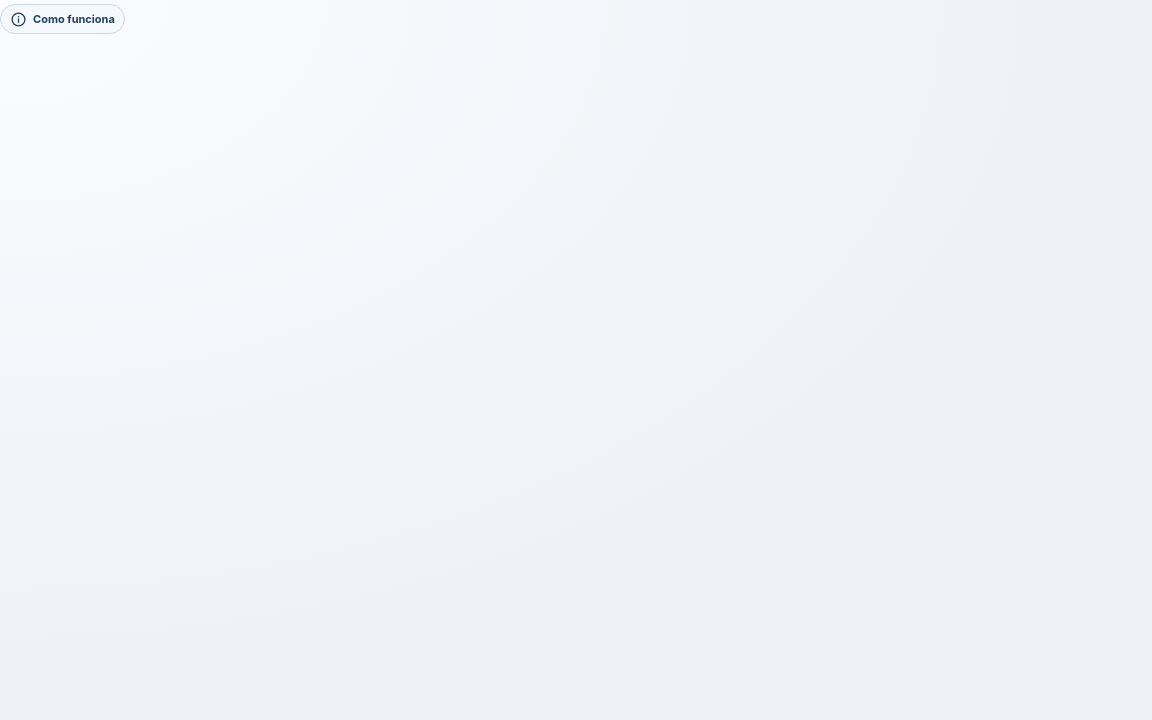
it: ElectionInfo › shows localized information in pt-BR
Click the button "Como funciona" at (62, 19), box left=0, top=4, right=125, bottom=34
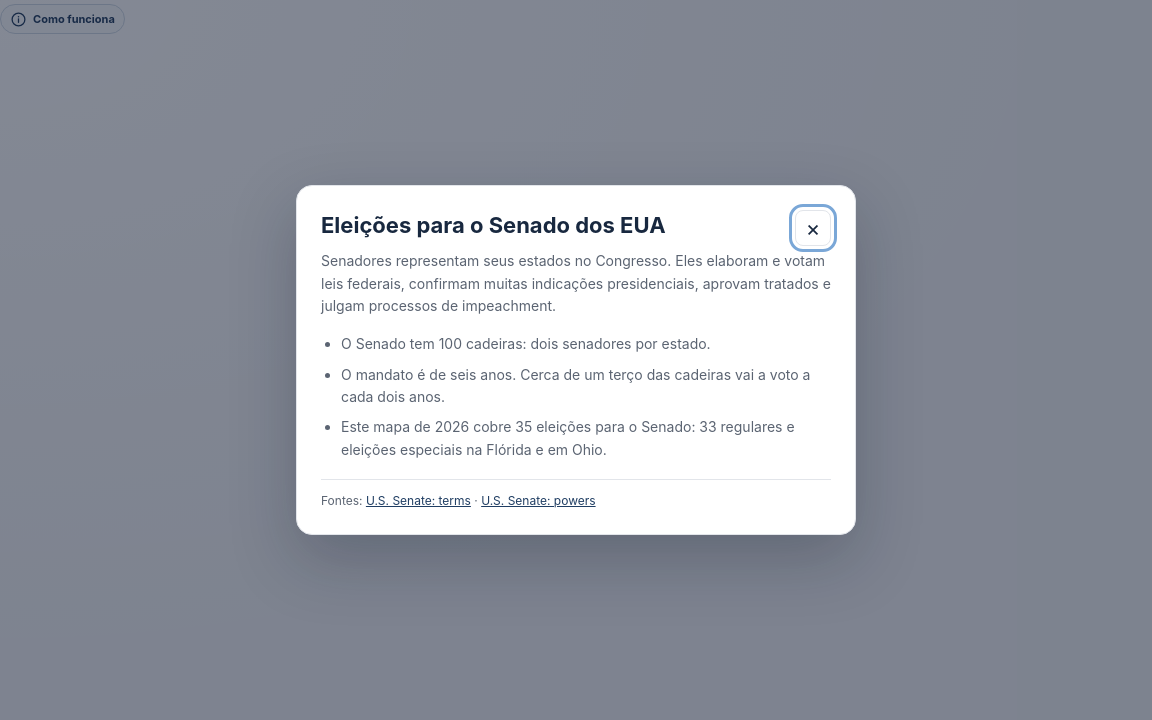
Expected: the heading "Eleições para o Senado dos EUA" is shown, left=321, top=212, right=666, bottom=238
Expected: the number of list items is 3, left=341, top=335, right=711, bottom=352; left=341, top=364, right=831, bottom=408; left=341, top=416, right=831, bottom=461
